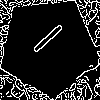I: (23, 21, 66, 62)
